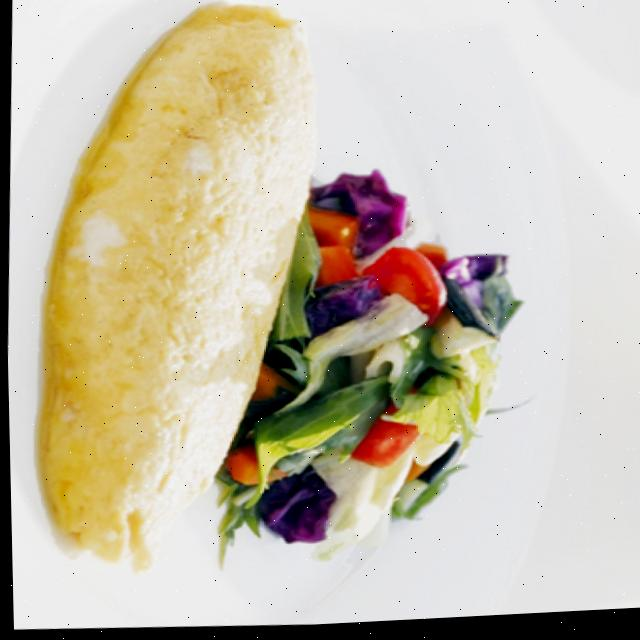鸡蛋料理: (24, 0, 366, 584)
